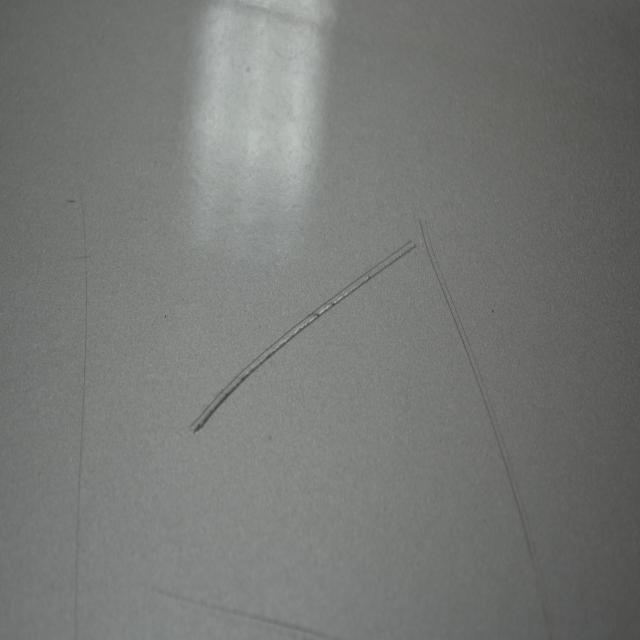scratch: (414, 205, 562, 630), (187, 228, 423, 447), (62, 175, 92, 619), (159, 564, 327, 640)
